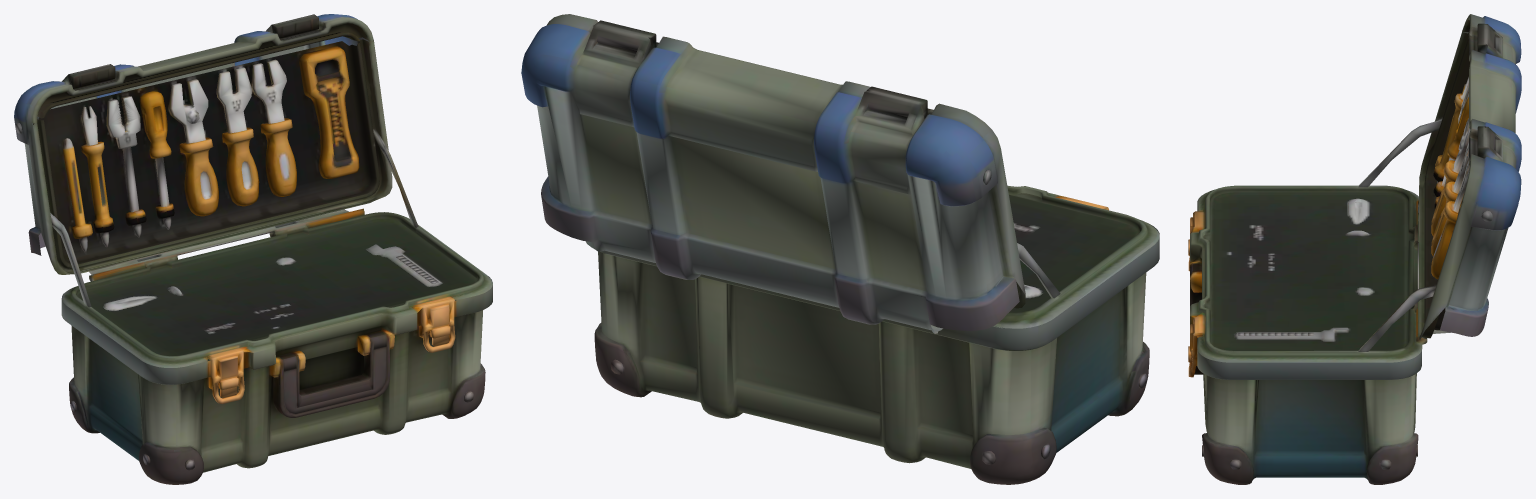
File: Inside__ArmourToolBox3.cluster.glb
3 views of the same model, side by side, from view 1: azimuth 30°, elevation 25°; view 2: azimuth 150°, elevation 25°; view 3: azimuth 270°, elevation 25° (orthographic). The views are drawn at different scales.
Visible parts, largest first — view 1: ArmourToolBox3; view 2: ArmourToolBox3; view 3: ArmourToolBox3.
Part boxes in pixels (x1=…): ArmourToolBox3: x1=14, y1=14, x2=492, y2=484; ArmourToolBox3: x1=521, y1=14, x2=1159, y2=484; ArmourToolBox3: x1=1188, y1=14, x2=1521, y2=484.
Size of the model in its own units: 1.9 by 1.64 by 1.53.
Materials: 1 (1 with a texture image).
